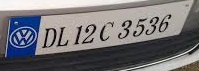numberplate: (7, 2, 188, 59)
